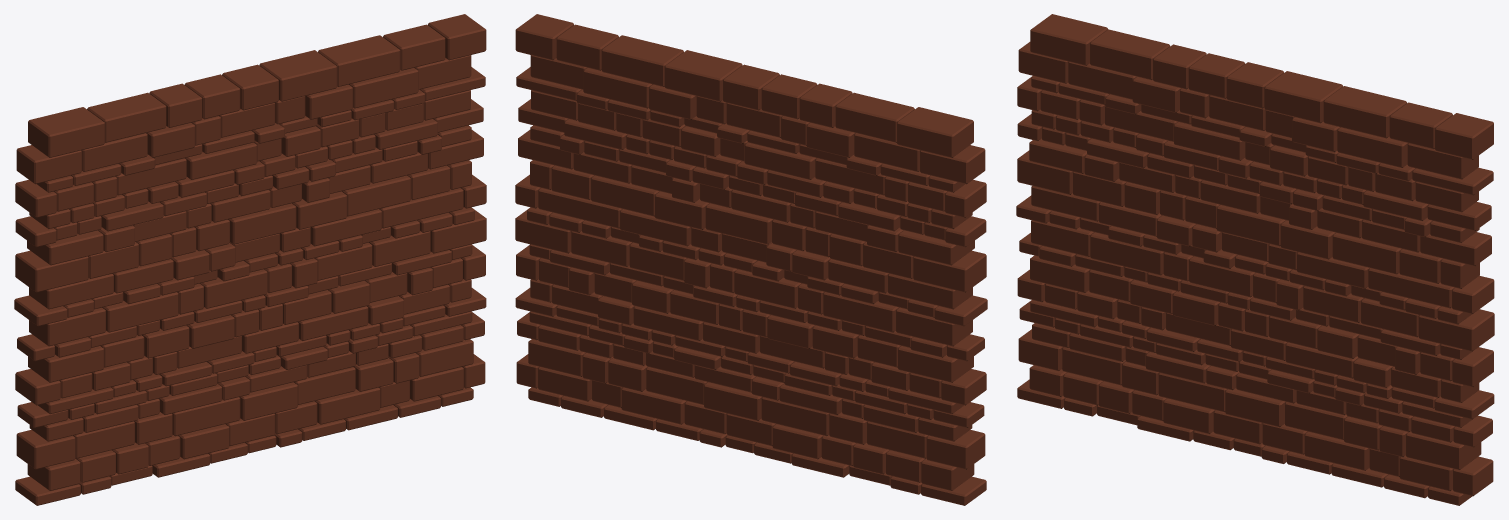
Rendered from BrickWall.fbx.
3 renders of one model, left to right at view 1: azimuth 30°, elevation 25°; view 2: azimuth 150°, elevation 25°; view 3: azimuth 330°, elevation 25°, orthographic.
Parts seen in each view (by area): view 1: Wall; view 2: Wall; view 3: Wall.
Part boxes in pixels (box(x1,y1,x2,y2)): Wall: box(14, 14, 486, 505); Wall: box(515, 14, 987, 505); Wall: box(1016, 14, 1494, 505).
Size of the model in its own units: 2108 by 1643 by 201.
